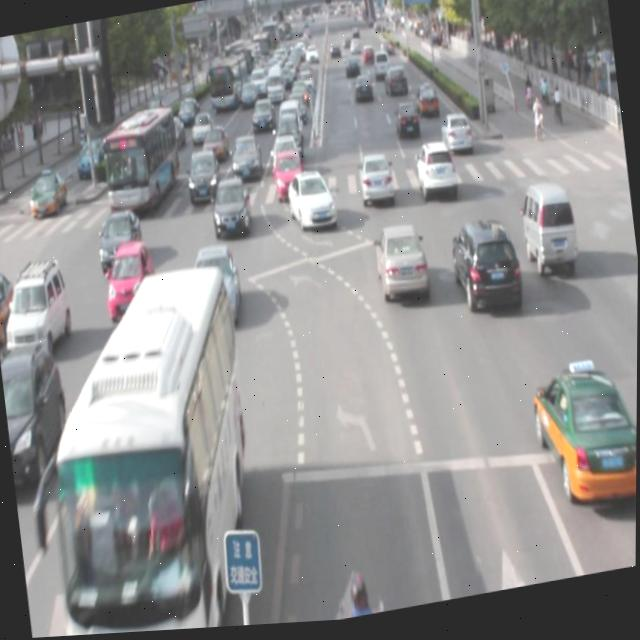car: (531, 363, 638, 517), (0, 337, 75, 490), (449, 217, 522, 320), (371, 222, 430, 311), (190, 243, 244, 331), (102, 239, 159, 322), (283, 171, 338, 239), (96, 209, 146, 277), (412, 142, 458, 205), (209, 177, 252, 240), (356, 155, 393, 209)
truck: (518, 182, 576, 281)
van: (26, 261, 267, 639)
